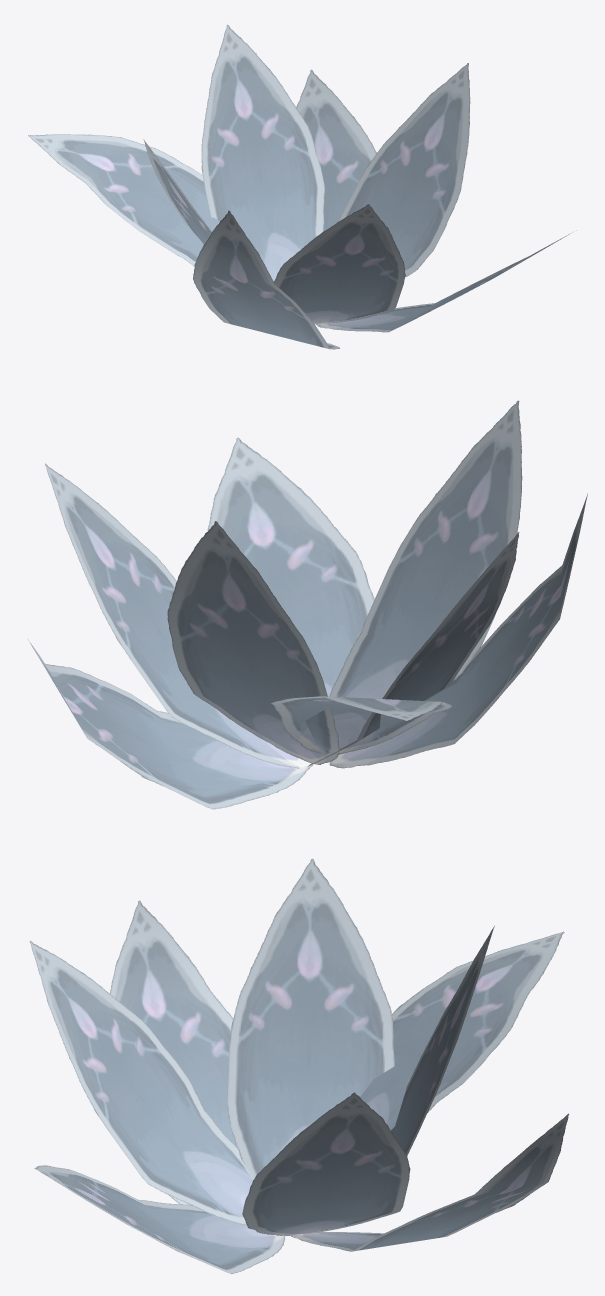
The model's file is ornate flower 2.fbx.
3 renders of one model, top to bottom at view 1: azimuth 30°, elevation 25°; view 2: azimuth 150°, elevation 25°; view 3: azimuth 270°, elevation 25°, orthographic. The views are drawn at different scales.
Parts seen in each view (by area): view 1: ornate_petal1, ornate_petal3, ornate_petal12, ornate_petal5, ornate_petal6, ornate_petal7, ornate_petal4, ornate_petal2; view 2: ornate_petal5, ornate_petal1, ornate_petal4, ornate_petal3, ornate_petal7, ornate_petal6, ornate_petal2, ornate_petal12; view 3: ornate_petal2, ornate_petal5, ornate_petal3, ornate_petal6, ornate_petal12, ornate_petal4, ornate_petal7, ornate_petal1.
Part boxes in pixels (bbox=[...]): ornate_petal1: bbox=[201, 25, 324, 281]; ornate_petal3: bbox=[338, 63, 470, 276]; ornate_petal12: bbox=[28, 134, 219, 266]; ornate_petal5: bbox=[274, 204, 405, 324]; ornate_petal6: bbox=[193, 210, 339, 349]; ornate_petal7: bbox=[296, 69, 376, 231]; ornate_petal4: bbox=[316, 230, 576, 332]; ornate_petal2: bbox=[143, 139, 211, 244]; ornate_petal5: bbox=[329, 400, 522, 700]; ornate_petal1: bbox=[167, 521, 339, 764]; ornate_petal4: bbox=[207, 437, 374, 696]; ornate_petal3: bbox=[45, 463, 299, 768]; ornate_petal7: bbox=[28, 639, 313, 809]; ornate_petal6: bbox=[329, 493, 587, 768]; ornate_petal2: bbox=[307, 532, 519, 766]; ornate_petal12: bbox=[271, 696, 452, 754]; ornate_petal2: bbox=[227, 858, 394, 1178]; ornate_petal5: bbox=[29, 940, 253, 1225]; ornate_petal3: bbox=[242, 1092, 410, 1235]; ornate_petal6: bbox=[110, 900, 236, 1205]; ornate_petal12: bbox=[360, 931, 564, 1130]; ornate_petal4: bbox=[34, 1165, 285, 1274]; ornate_petal7: bbox=[290, 1113, 568, 1251]; ornate_petal1: bbox=[391, 926, 494, 1155].
Bounding box in the file's own units: 6.14 × 4.09 × 6.38.
